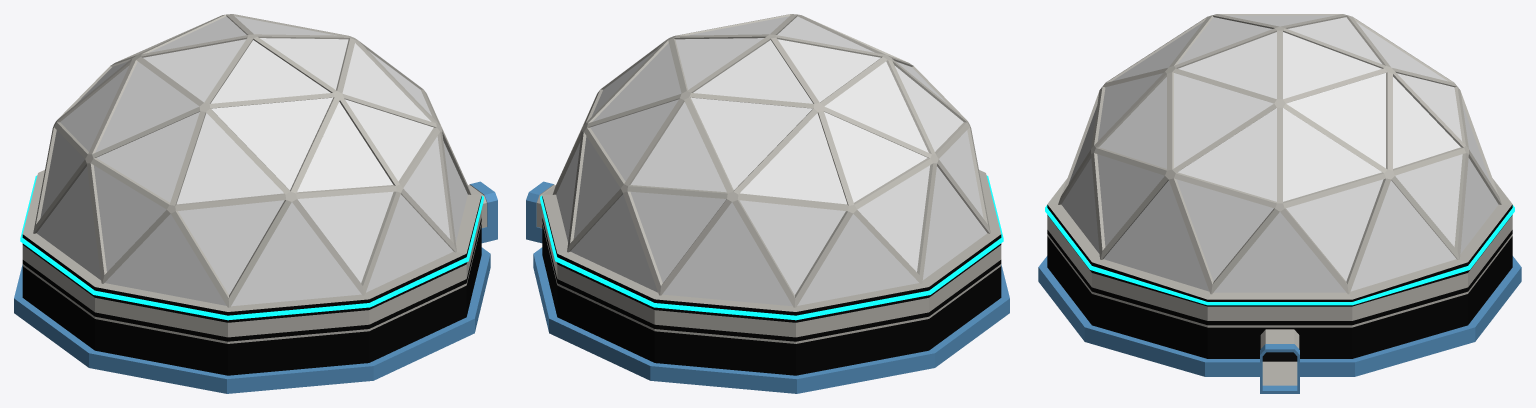
File: Mesh_Build_Library.fbx
3 renders of one model, left to right at view 1: azimuth 30°, elevation 25°; view 2: azimuth 150°, elevation 25°; view 3: azimuth 270°, elevation 25°, orthographic.
Visible parts, largest first — view 1: librairie; view 2: librairie; view 3: librairie.
Boxes of the visible parts, x1,y1,x2,y2 form: librairie: (14, 14, 497, 393); librairie: (526, 14, 1009, 393); librairie: (1038, 14, 1521, 393).
Size of the model in its own units: 1267 by 708 by 1224.
